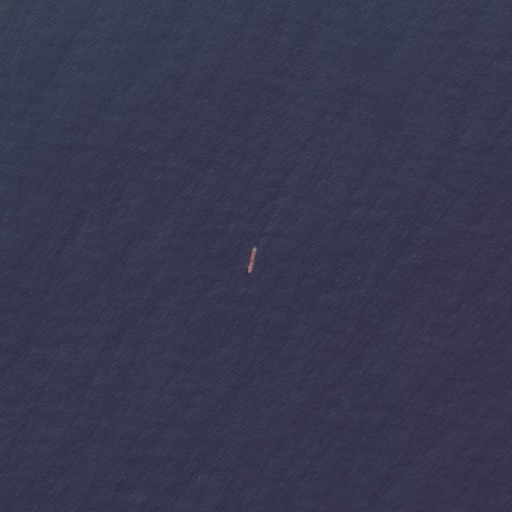ship: (243, 243, 259, 276)
